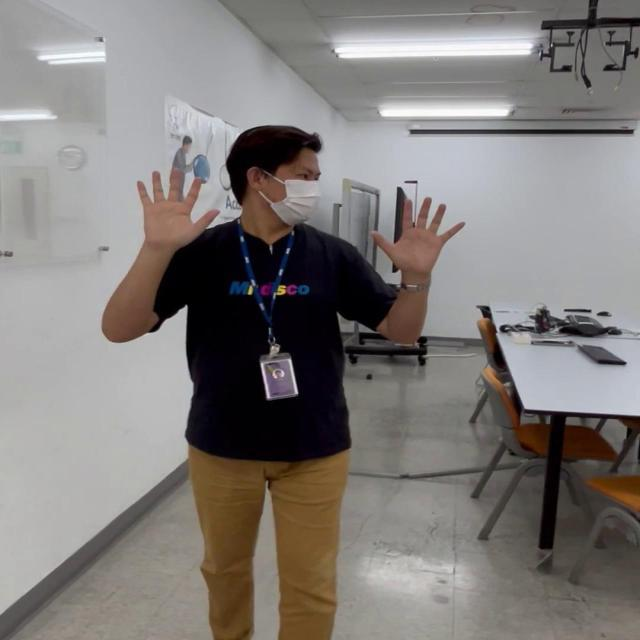bare_hand: (131, 162, 218, 246), (370, 195, 463, 270)
